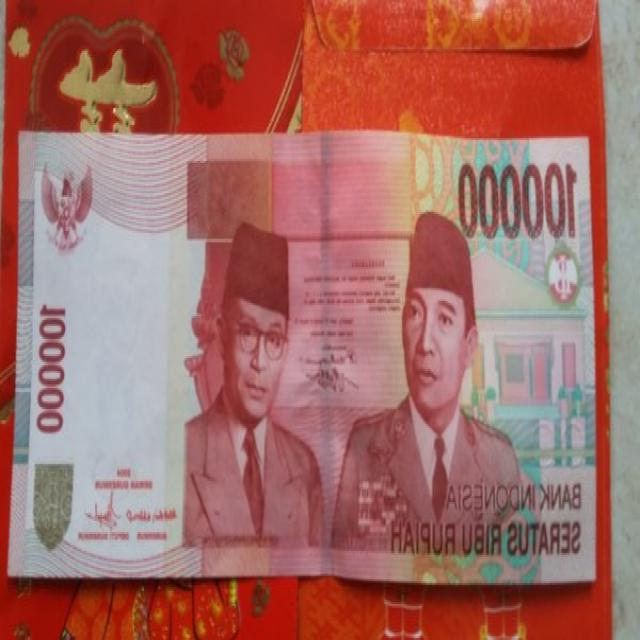seratus ribu rupiah: (0, 116, 600, 616), (206, 213, 294, 531), (397, 193, 481, 424), (452, 154, 584, 248)
